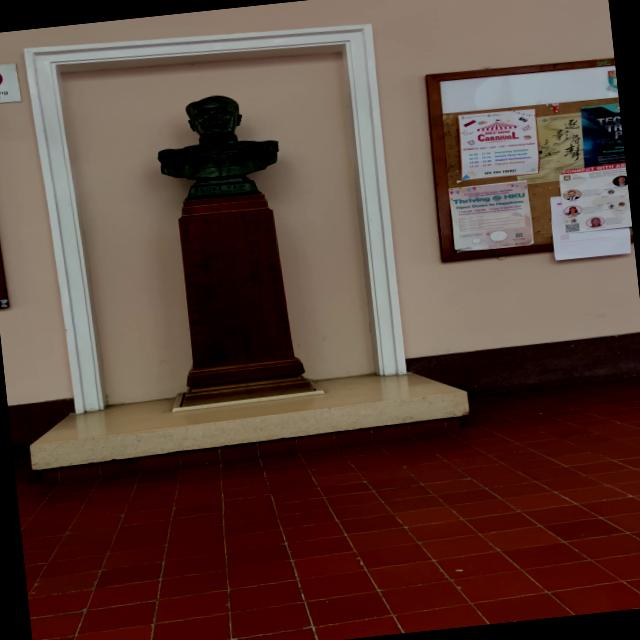statues: (144, 84, 290, 210)
